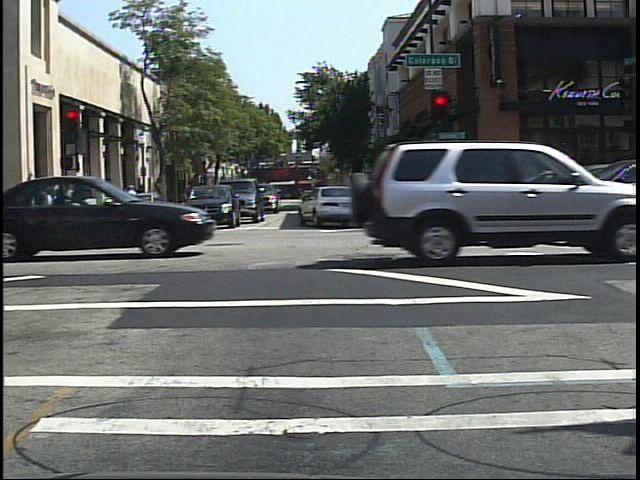person: (121, 181, 140, 225), (135, 181, 150, 218)
